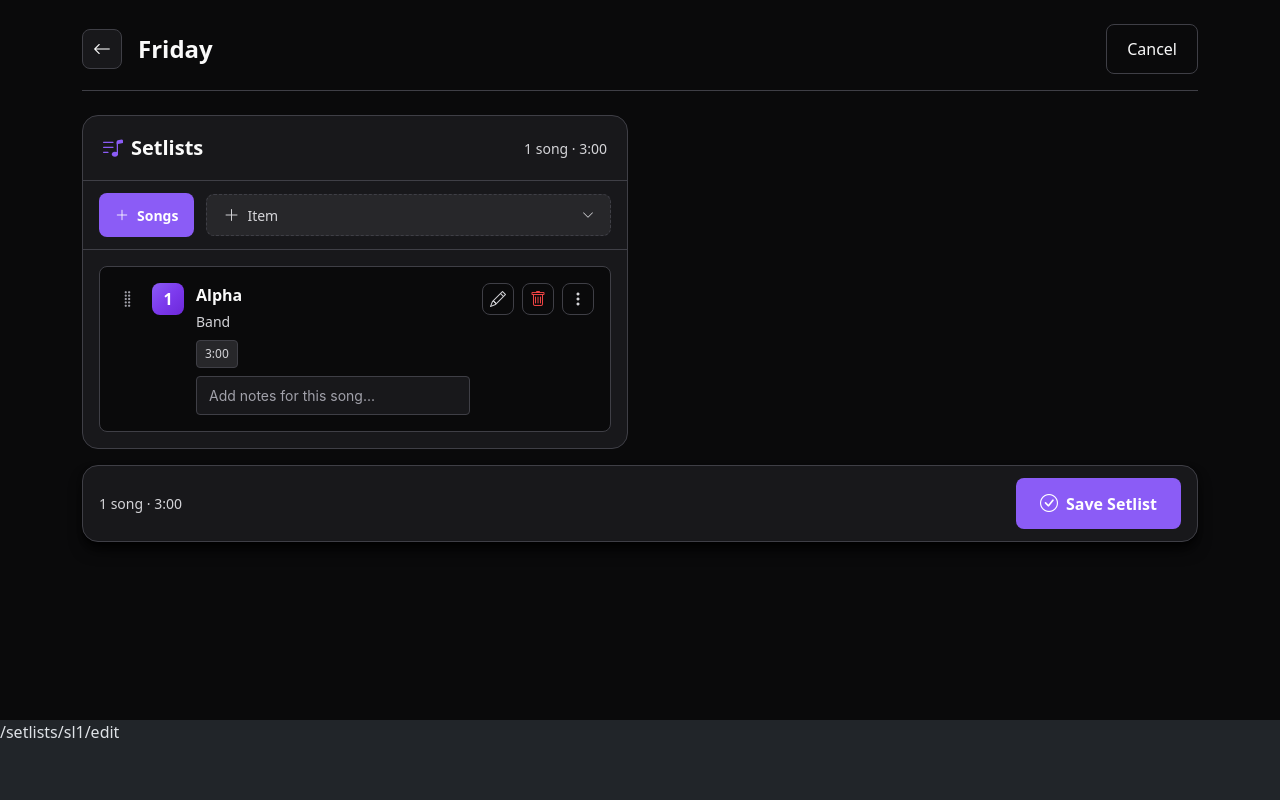
Test case: SetlistEditor with the song picker › narrow: Add songs opens the full-screen picker; Add N appends and closes it (AC5)
What coordinates should you click on to do the following:
click the button with aria-label "Add songs"
I would click on:
 (147, 215)
Its box is top-left (99, 193), bottom-right (194, 237).
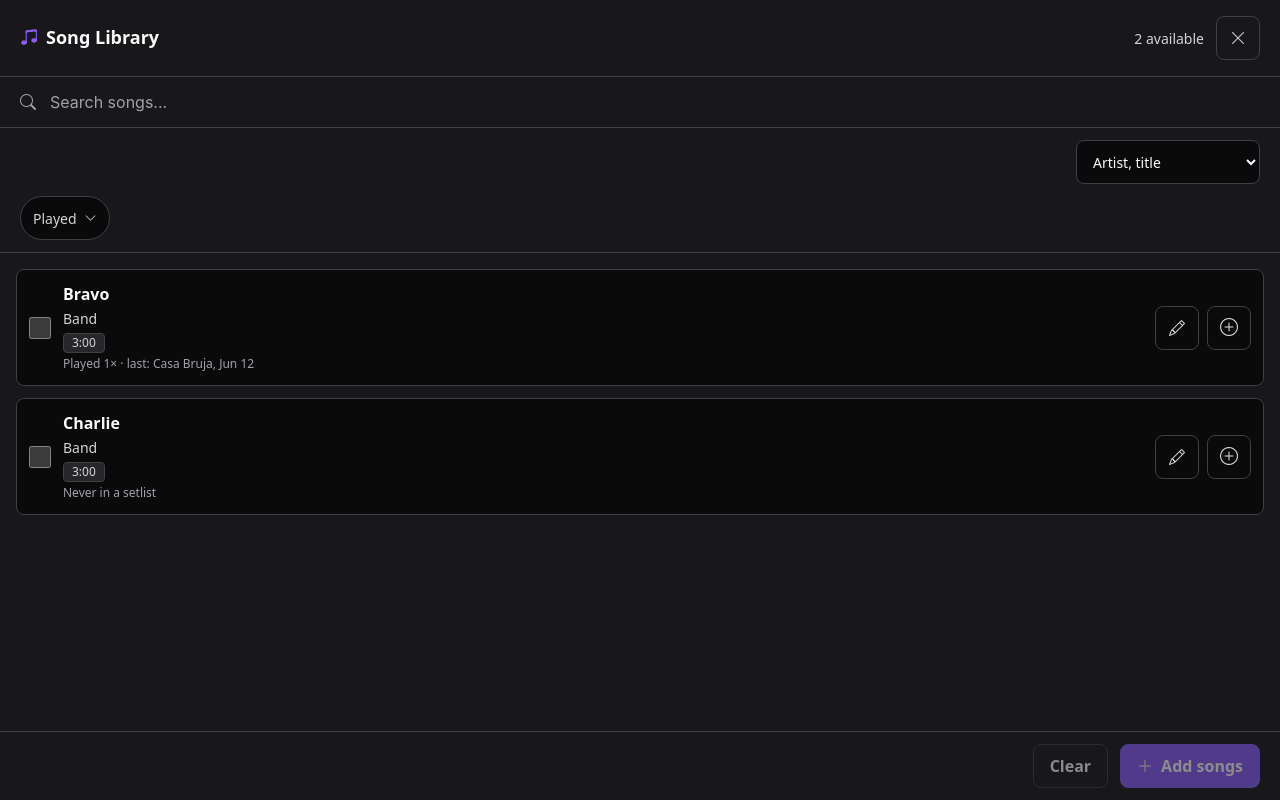
What coordinates should you click on to do the following:
click the text "Charlie"
I would click on:
 (91, 423)
Its box is top-left (63, 412), bottom-right (120, 434).
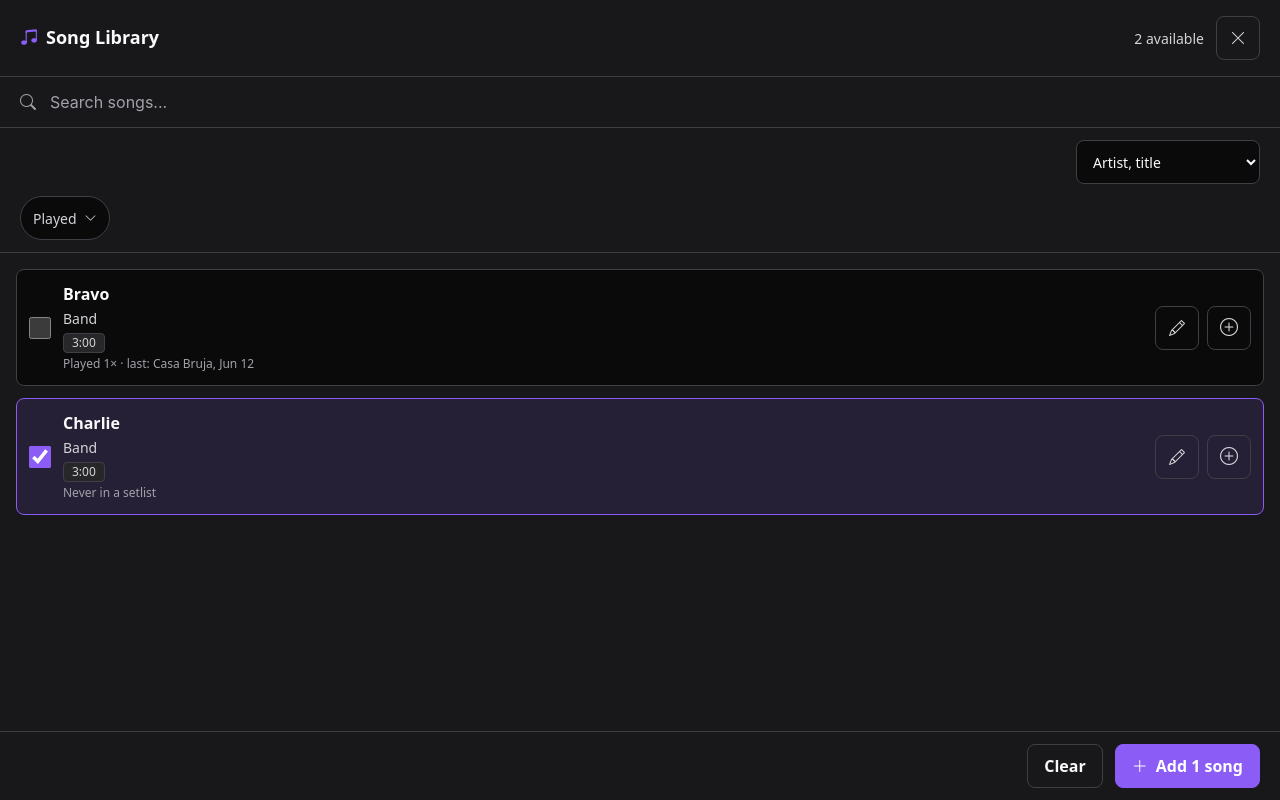
What coordinates should you click on to do the following:
click the text "Bravo"
I would click on:
 (86, 294)
Its box is top-left (63, 283), bottom-right (109, 305).
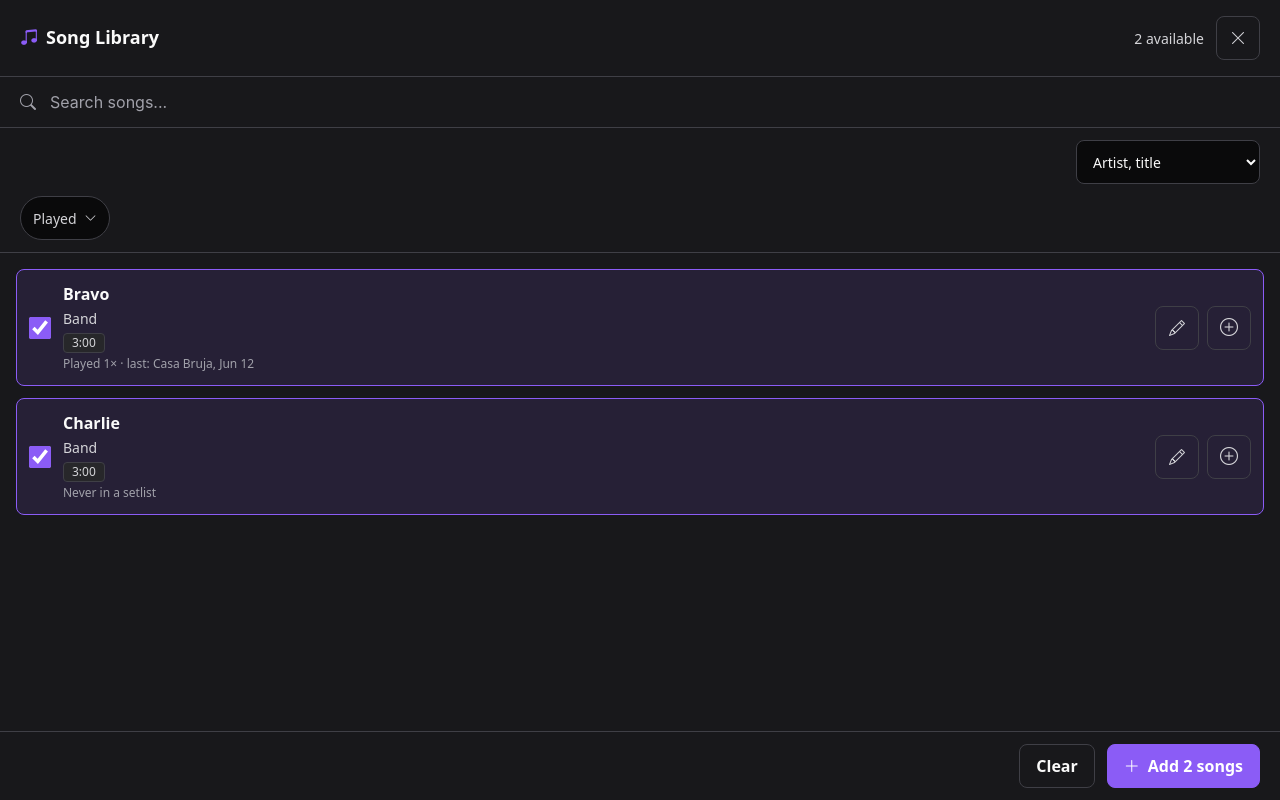
What coordinates should you click on to do the following:
click the button "Add 2 songs"
I would click on:
 (1183, 766)
Its box is top-left (1107, 744), bottom-right (1260, 788).
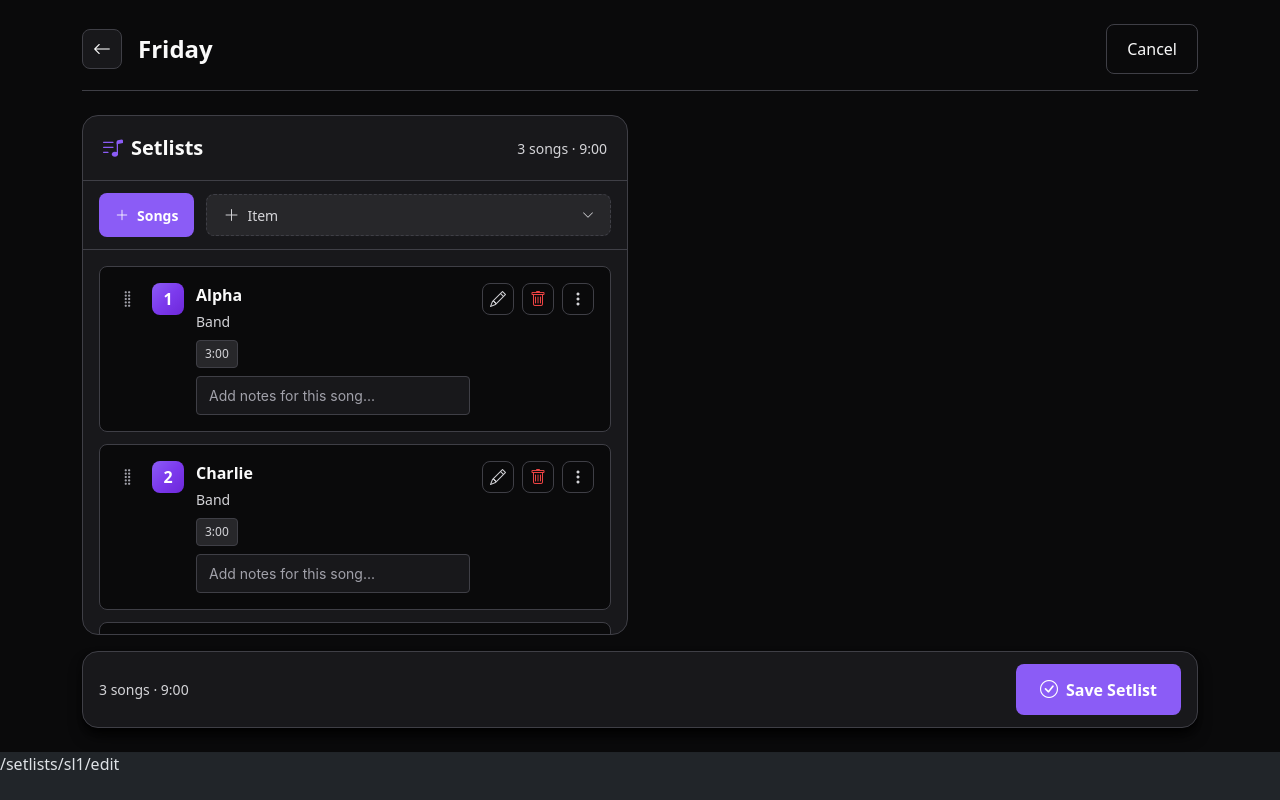
Expected: the text "3 songs · 9:00" is shown 2 times, top-left (517, 138), bottom-right (607, 158); top-left (99, 679), bottom-right (189, 700)
Expected: the dialog is gone
